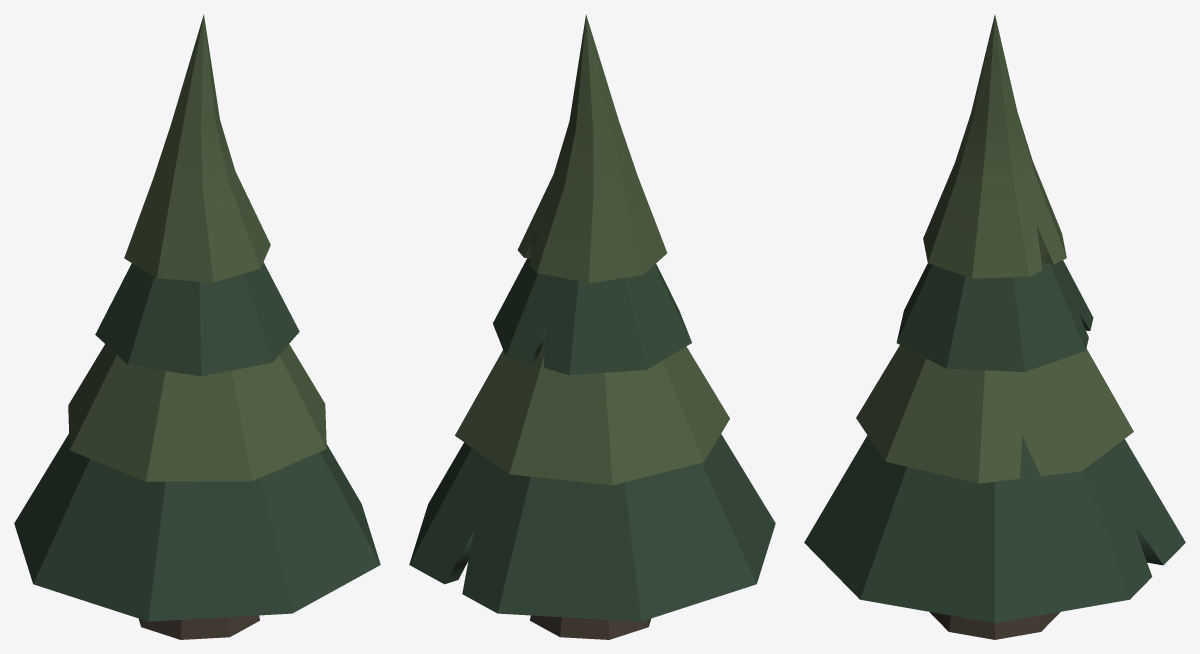
Rendered from Pine2.fbx.
3 renders of one model, left to right at view 1: azimuth 30°, elevation 25°; view 2: azimuth 150°, elevation 25°; view 3: azimuth 270°, elevation 25°, orthographic.
Visible parts, largest first — view 1: pCone2; view 2: pCone2; view 3: pCone2.
Part boxes in pixels (bbox=[...]): pCone2: bbox=[14, 14, 380, 639]; pCone2: bbox=[409, 14, 775, 639]; pCone2: bbox=[804, 15, 1185, 639].
Bounding box in the file's own units: 1.6 × 1.6 × 2.78.
